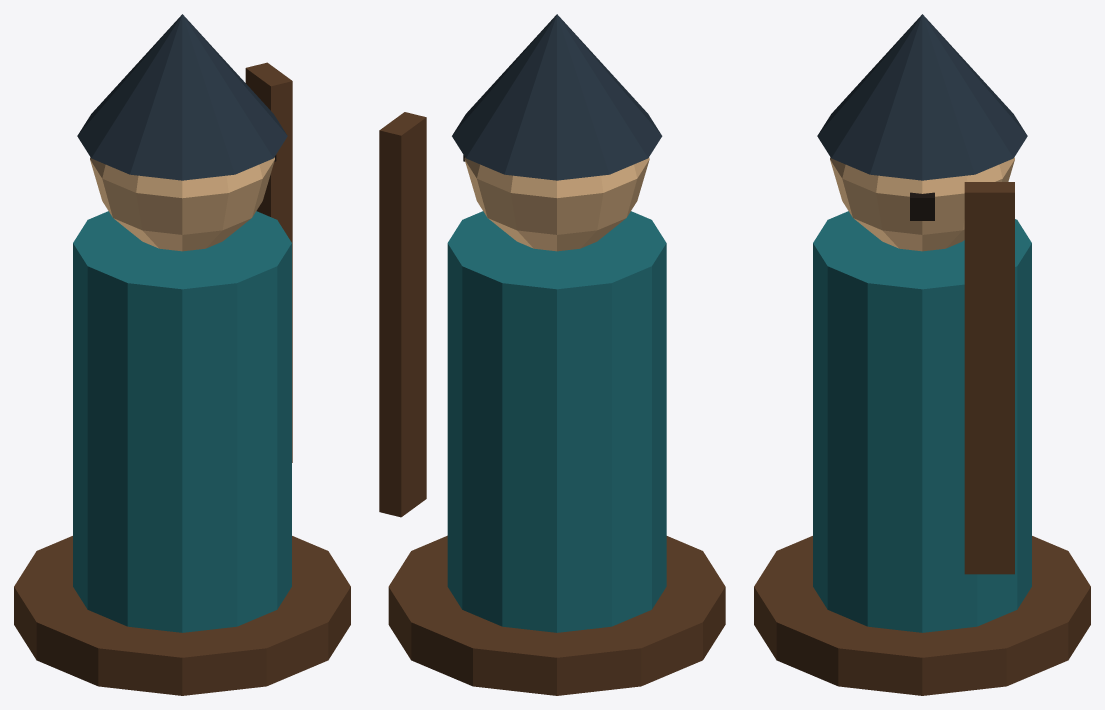
File: archer_piece.glb
The picture shows the model from 3 angles, left to right: view 1: azimuth 30°, elevation 25°; view 2: azimuth 150°, elevation 25°; view 3: azimuth 270°, elevation 25°; orthographic projection.
Parts seen in each view (by area): view 1: archer_piece; view 2: archer_piece; view 3: archer_piece.
Boxes of the visible parts, x1,y1,x2,y2 form: archer_piece: [14, 14, 350, 695]; archer_piece: [379, 14, 725, 695]; archer_piece: [754, 14, 1090, 695].
Bounding box in the file's own units: 0.4 × 0.8 × 0.4.
